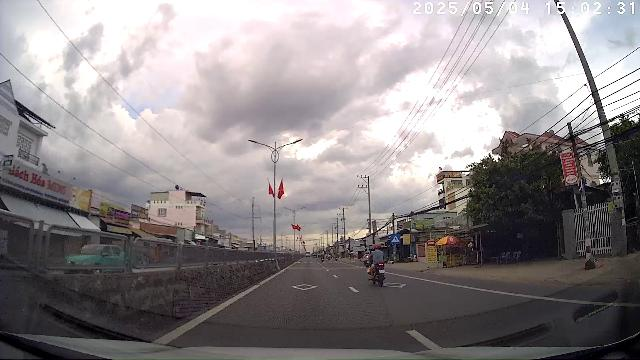423a-duong-nguoi-di-bo-sang-ngang-1: (391, 234, 401, 244)
